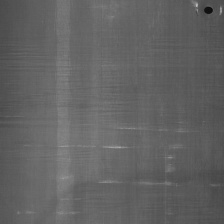punching_hole: (203, 3, 214, 16)
